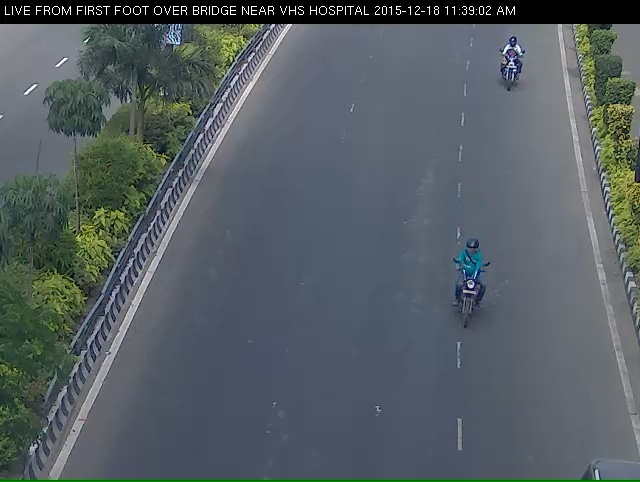Person: (438, 252, 507, 351), (489, 35, 532, 105)
